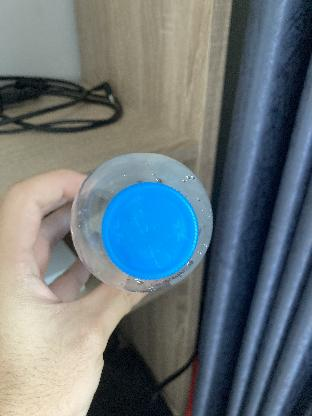Plastic Bottle: (69, 147, 217, 297)
